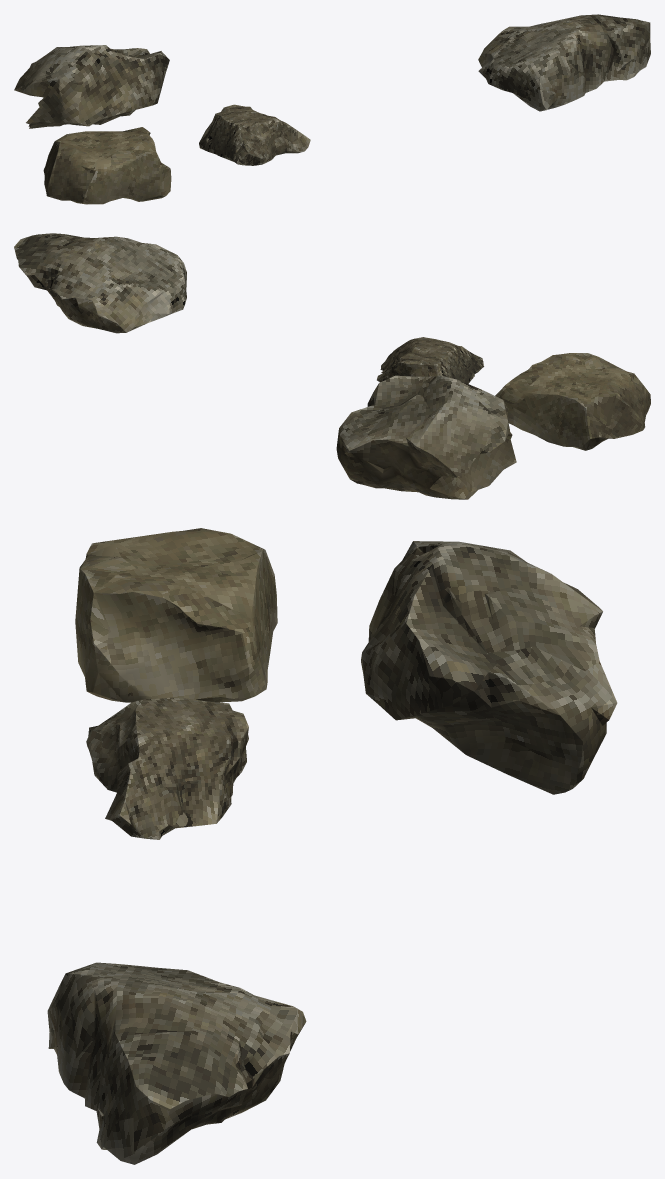
File: rock_moss_set_02.glb
The picture shows the model from 3 angles, top to bottom: view 1: azimuth 30°, elevation 25°; view 2: azimuth 150°, elevation 25°; view 3: azimuth 270°, elevation 25°; orthographic projection. The views are drawn at different scales.
Parts seen in each view (by area): view 1: rock_moss_set_02_rock10, rock_moss_set_02_rock11, rock_moss_set_02_rock07, rock_moss_set_02_rock08; view 2: rock_moss_set_02_rock11, rock_moss_set_02_rock10, rock_moss_set_02_rock07, rock_moss_set_02_rock08; view 3: rock_moss_set_02_rock11, rock_moss_set_02_rock10, rock_moss_set_02_rock07, rock_moss_set_02_rock08.
Boxes of the visible parts, x1,y1,x2,y2 form: rock_moss_set_02_rock10: [478, 14, 650, 111]; rock_moss_set_02_rock11: [14, 45, 169, 128]; rock_moss_set_02_rock07: [43, 127, 171, 204]; rock_moss_set_02_rock08: [199, 104, 310, 165]; rock_moss_set_02_rock11: [336, 375, 516, 499]; rock_moss_set_02_rock10: [14, 233, 186, 333]; rock_moss_set_02_rock07: [495, 353, 650, 450]; rock_moss_set_02_rock08: [377, 337, 484, 383]; rock_moss_set_02_rock11: [361, 541, 617, 794]; rock_moss_set_02_rock10: [47, 962, 306, 1164]; rock_moss_set_02_rock07: [75, 528, 277, 702]; rock_moss_set_02_rock08: [86, 697, 248, 839].
Size of the model in its own units: 8.28 by 1.29 by 3.41.
1 material, 1 textured.
